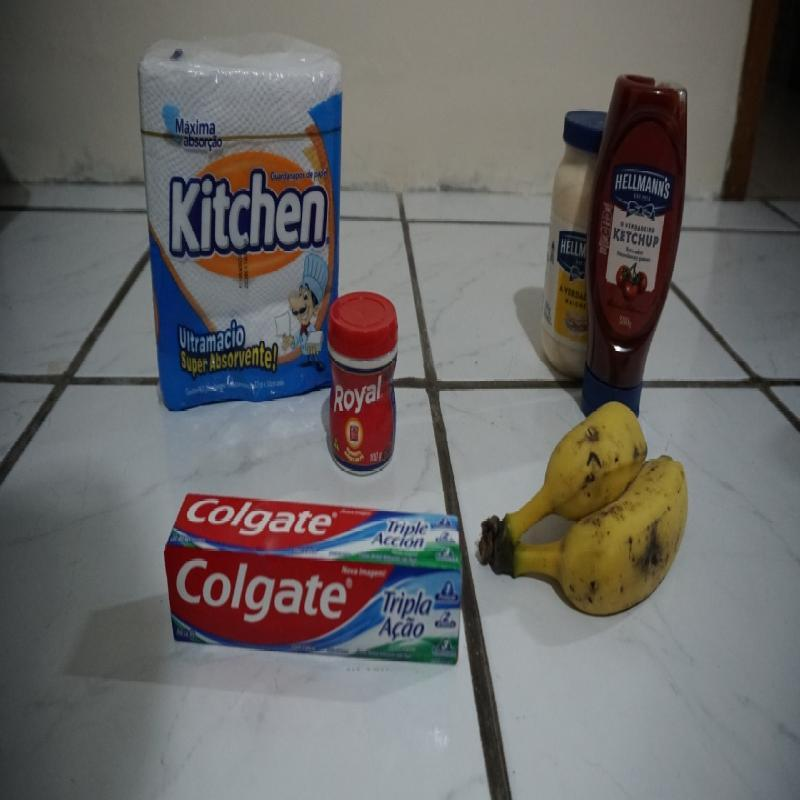Banana: (479, 400, 689, 619)
Ketchup: (581, 71, 690, 422)
Mayonnaise: (542, 103, 605, 384)
Napkin: (138, 37, 344, 412)
Toothpaste: (164, 493, 464, 671)
Yeast: (328, 290, 400, 471)
